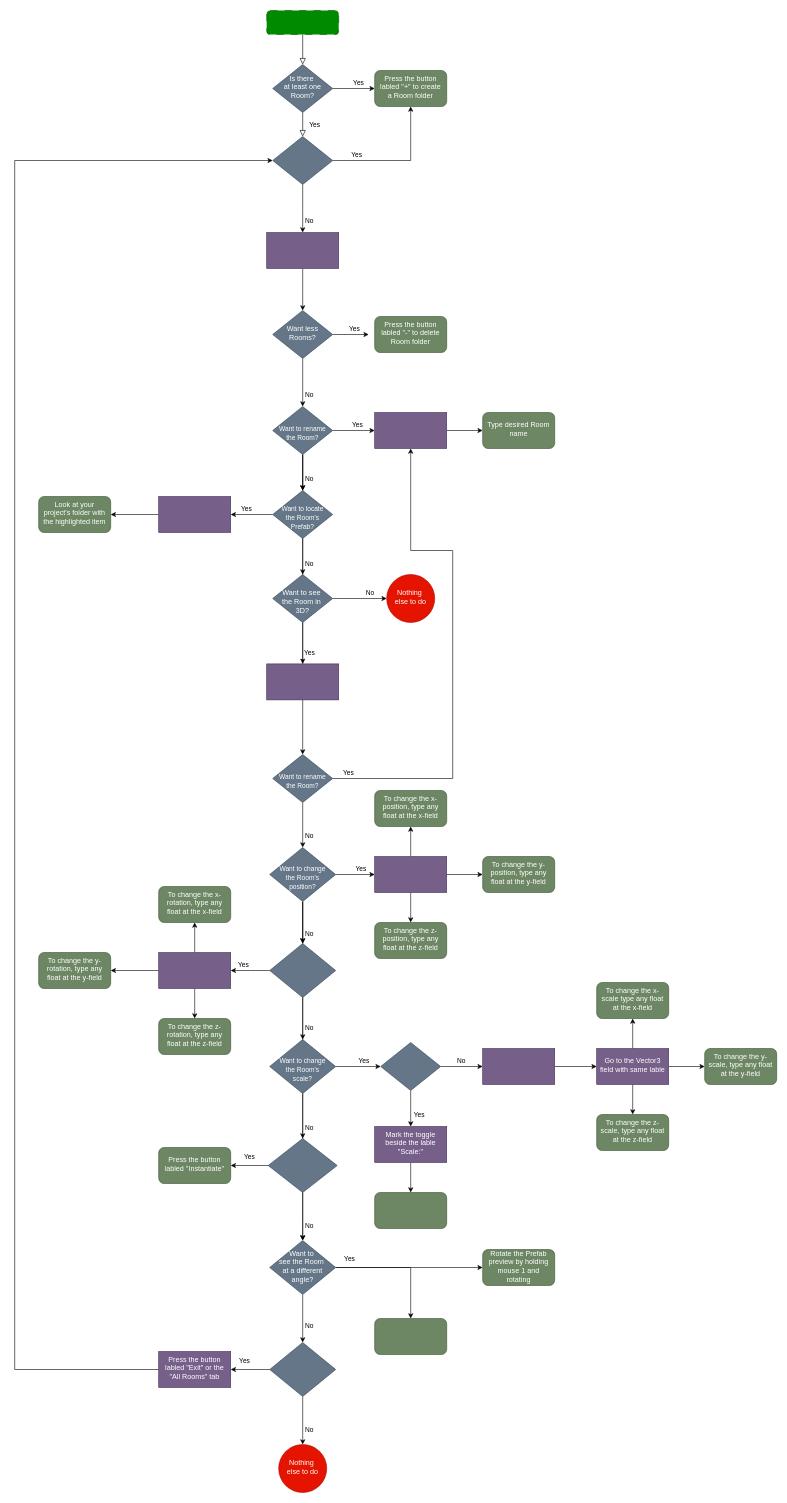
The diagram is 787 pixels wide and 1503 high, and some of its shapes have lost their labels. The shapes that lost their labels are listed below. From the top down, each one's centre as x and y in pixels, then its label:
[302,22]: Room List/Viewer
[302,160]: Want more Rooms?
[302,250]: Select desired Room
[410,430]: Go to the text field labled "Room Name:"
[194,514]: Click at the object field labled "Prefab"
[302,681]: Press the button labled "Open Viewer" or the "Room Viewer" tab
[410,874]: Go to the Vector3 field labled "Position:"
[194,970]: Go to the Vector3 field labled "Rotation:"
[302,970]: Want to change the Room's rotation?
[410,1066]: Want to keep the same x-y-z ratio ?
[518,1066]: Unmark the toggle beside the lable "Scale:"
[302,1165]: Want to instantiate the Room at the current scene ?
[410,1210]: Type at any of the Vector3 fields the desired scale
[410,1336]: Zoom in or out by scrolling with mouse 3
[302,1369]: Want to go back to the Room list?
